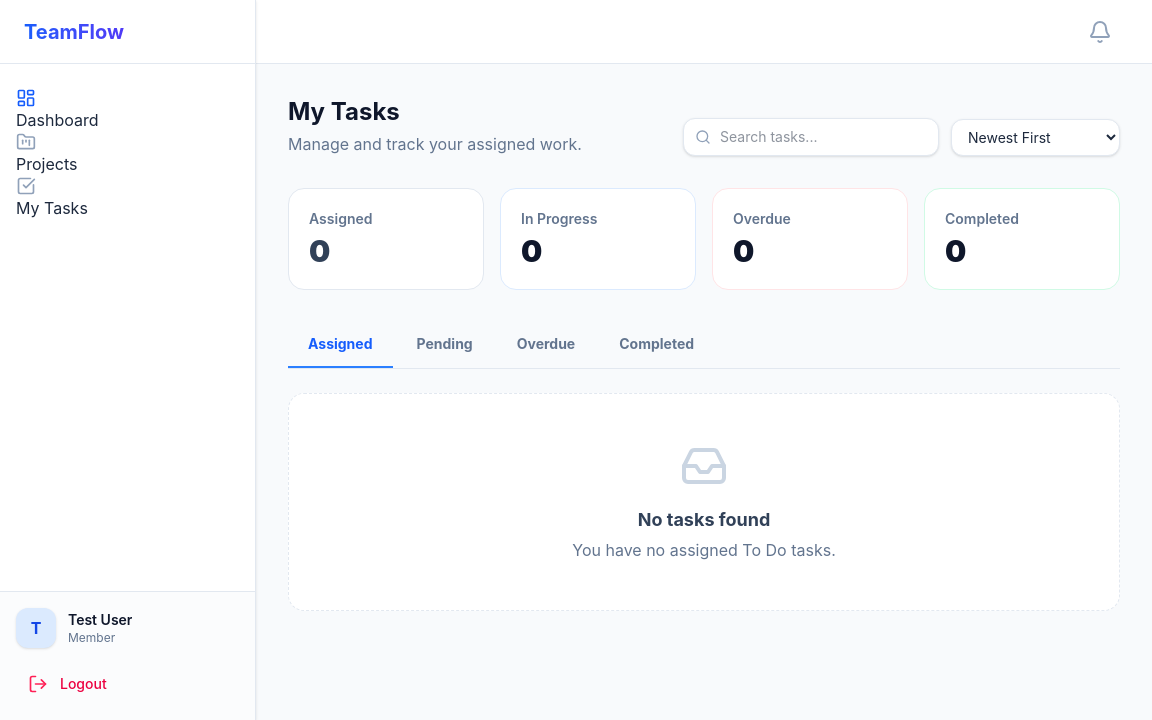
Scenario: MyTasks Dashboard › switches tabs and displays empty state correctly
expect the text "You have no assigned To Do tasks." is shown: met, box 572,538 -> 836,562
Click the tab "Pending": {"x": 445, "y": 345} 396,322 -> 493,368
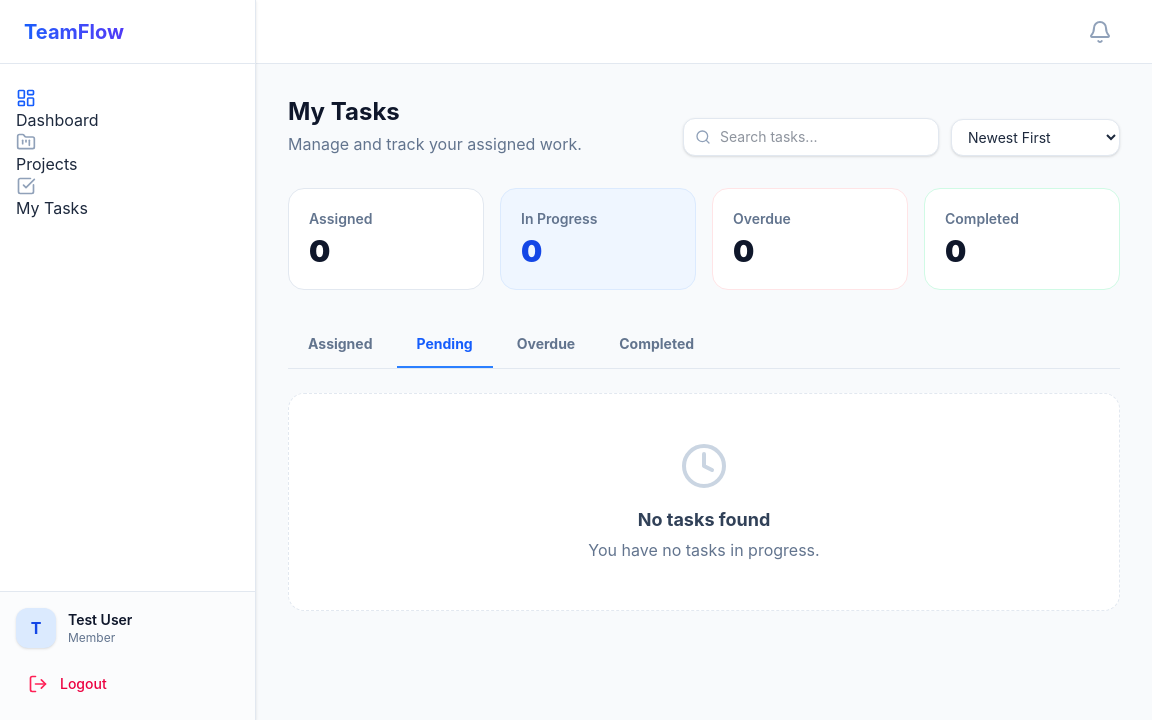
expect the text "You have no tasks in progress." is shown: met, box 588,538 -> 820,562
